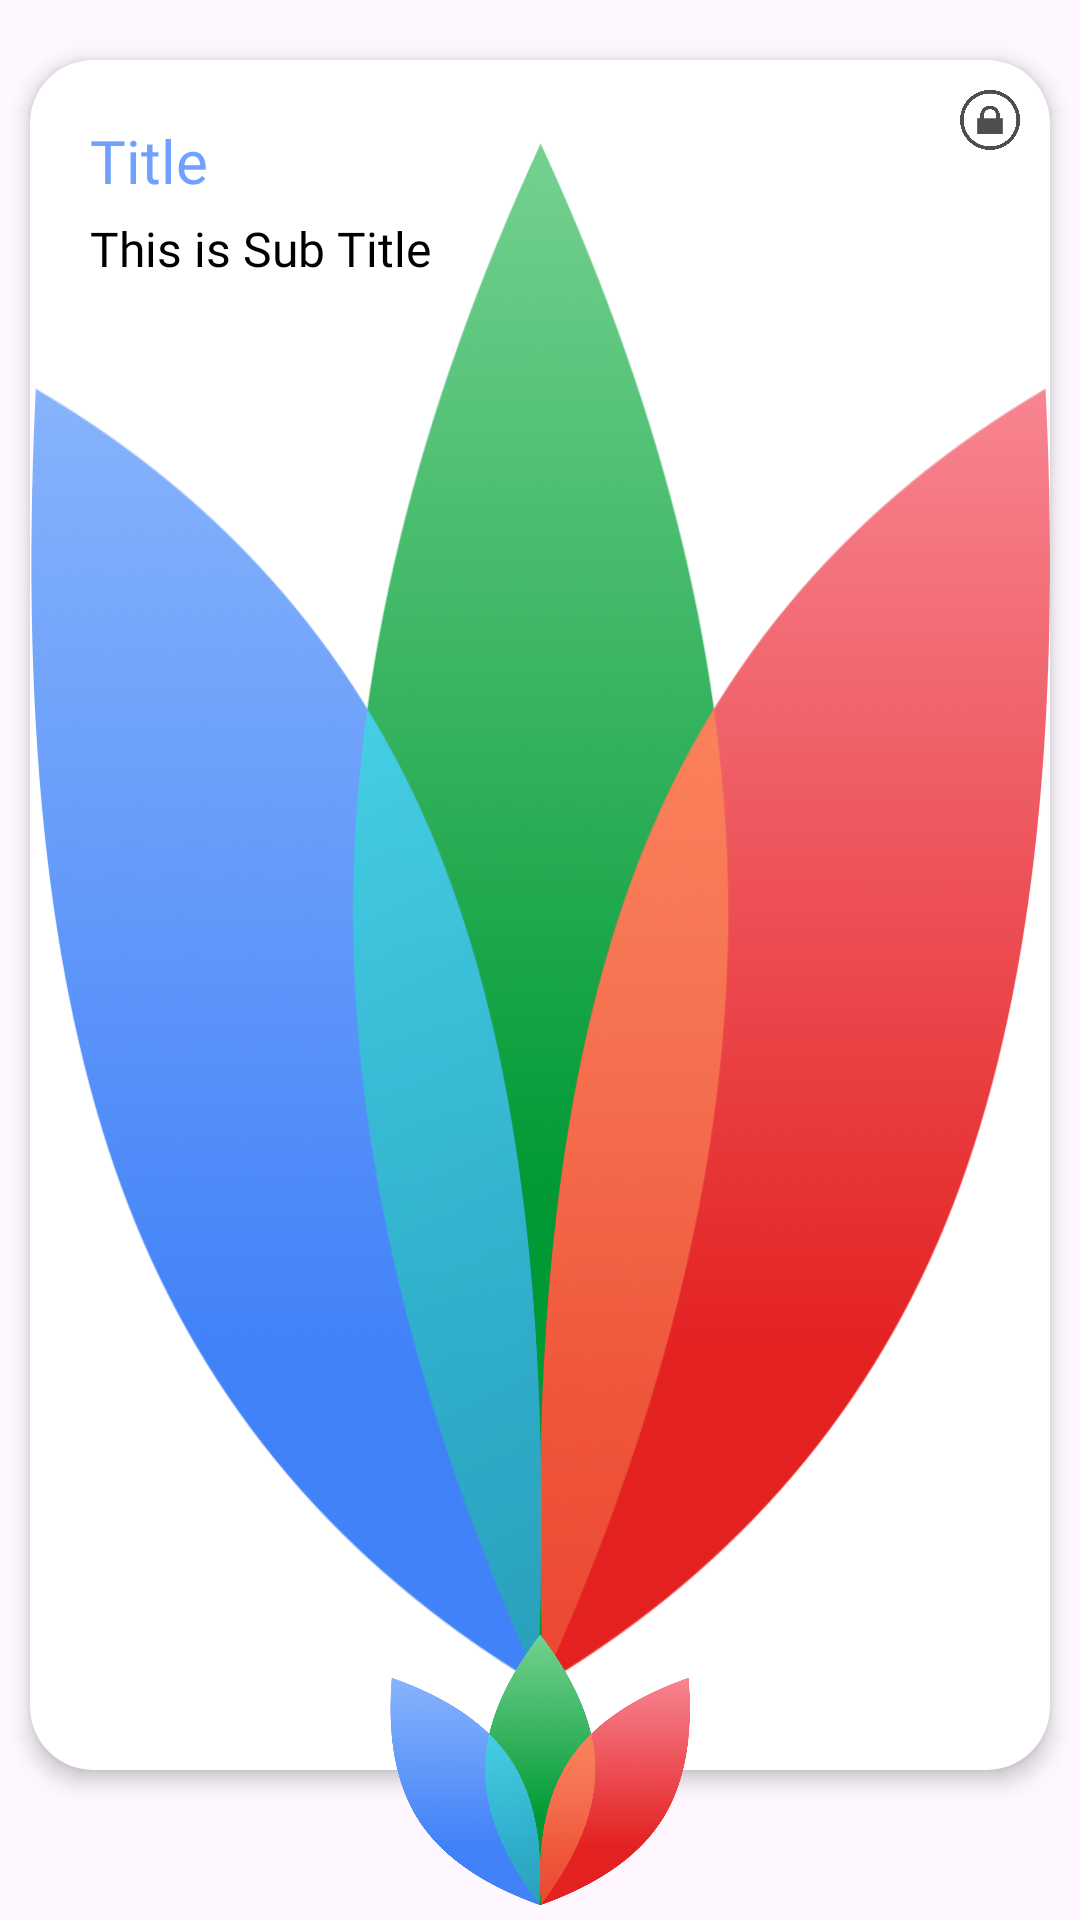

Icons on this 1080*1920 Android screen, each with its box as (x1, y1, x2, y2):
lock: (960, 90, 1020, 150)
